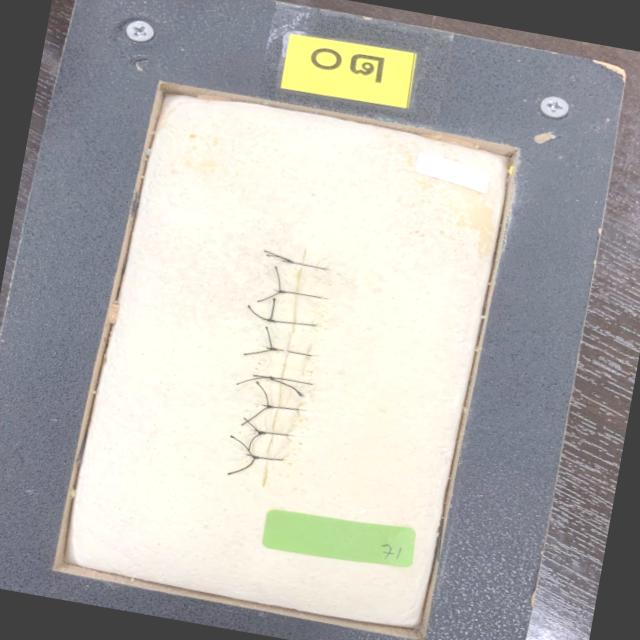knot: (264, 316, 279, 324), (248, 453, 262, 461), (255, 429, 269, 437), (266, 345, 280, 353), (263, 374, 276, 382), (284, 257, 296, 265), (263, 403, 276, 410), (276, 288, 288, 295)
leftover: (240, 406, 269, 426), (227, 456, 255, 475), (270, 378, 301, 395), (230, 435, 253, 457), (255, 381, 269, 407), (247, 304, 268, 320), (263, 249, 289, 261), (235, 376, 268, 385), (243, 417, 260, 433), (247, 432, 261, 451), (256, 291, 281, 301), (242, 348, 272, 355), (274, 265, 281, 292), (264, 326, 272, 349), (265, 254, 289, 261), (268, 298, 275, 320)
stitch: (251, 374, 312, 385), (281, 259, 327, 270), (265, 346, 311, 356), (276, 290, 321, 298), (266, 319, 315, 326), (245, 453, 283, 460), (253, 429, 289, 436), (261, 404, 299, 410)
wound: (262, 248, 305, 485)
